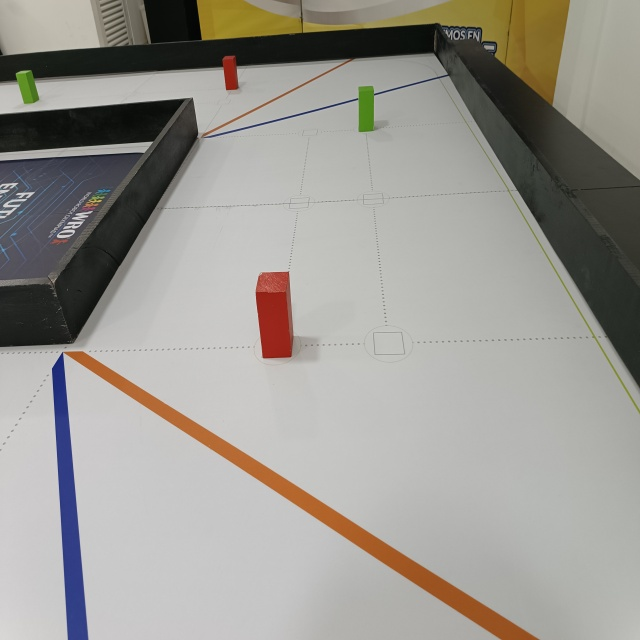blue line: (198, 69, 452, 142), (42, 348, 93, 640)
green rectangular prism: (13, 70, 42, 106), (357, 86, 378, 133)
orange line: (60, 351, 544, 640), (196, 55, 356, 138)
red rectangular prism: (254, 274, 296, 361), (222, 56, 242, 94)
